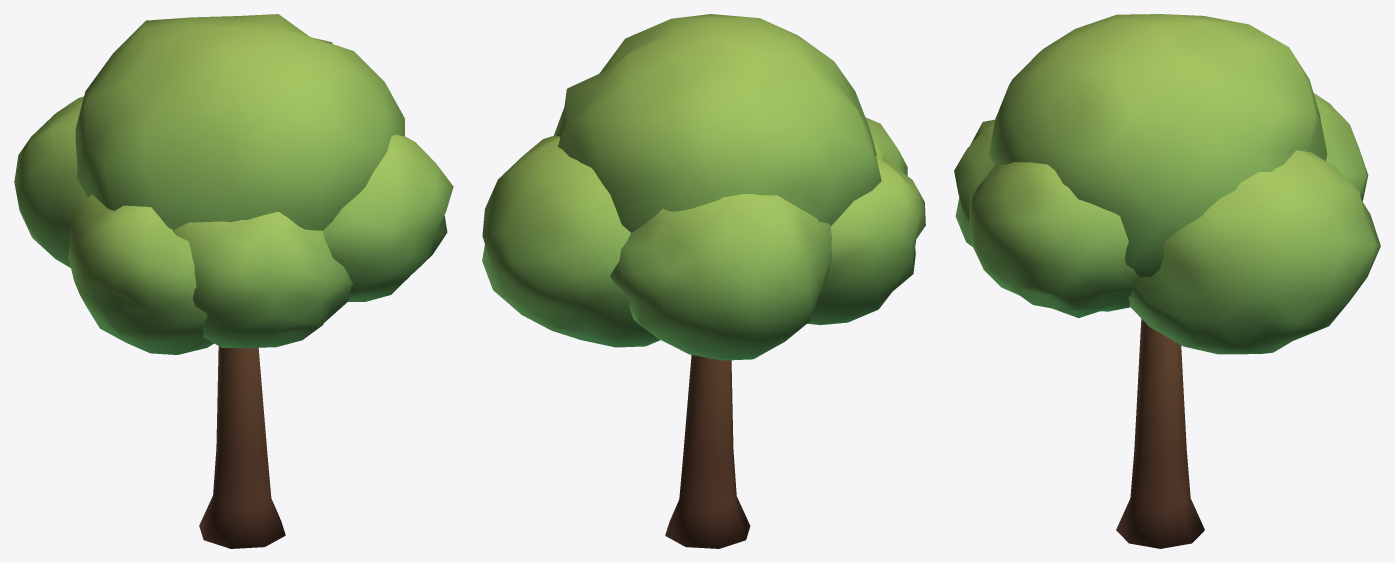
The model's file is tree_round_a.glb.
3 renders of one model, left to right at view 1: azimuth 30°, elevation 25°; view 2: azimuth 150°, elevation 25°; view 3: azimuth 270°, elevation 25°, orthographic.
Visible parts, largest first — view 1: tree_round_a; view 2: tree_round_a; view 3: tree_round_a.
Part boxes in pixels (<box>): tree_round_a: <box>14,14,453,548</box>; tree_round_a: <box>482,14,925,548</box>; tree_round_a: <box>954,14,1380,548</box>.
Size of the model in its own units: 4.16 by 5.69 by 4.4.
